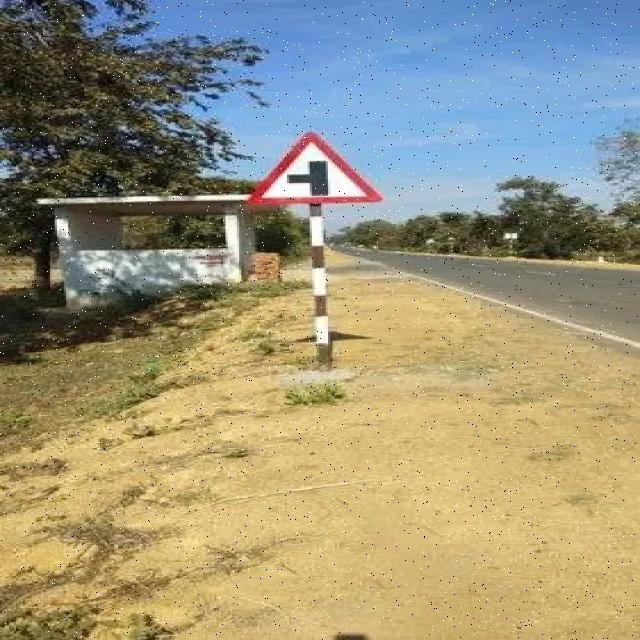Sideroad_toleft: (245, 132, 370, 205)
